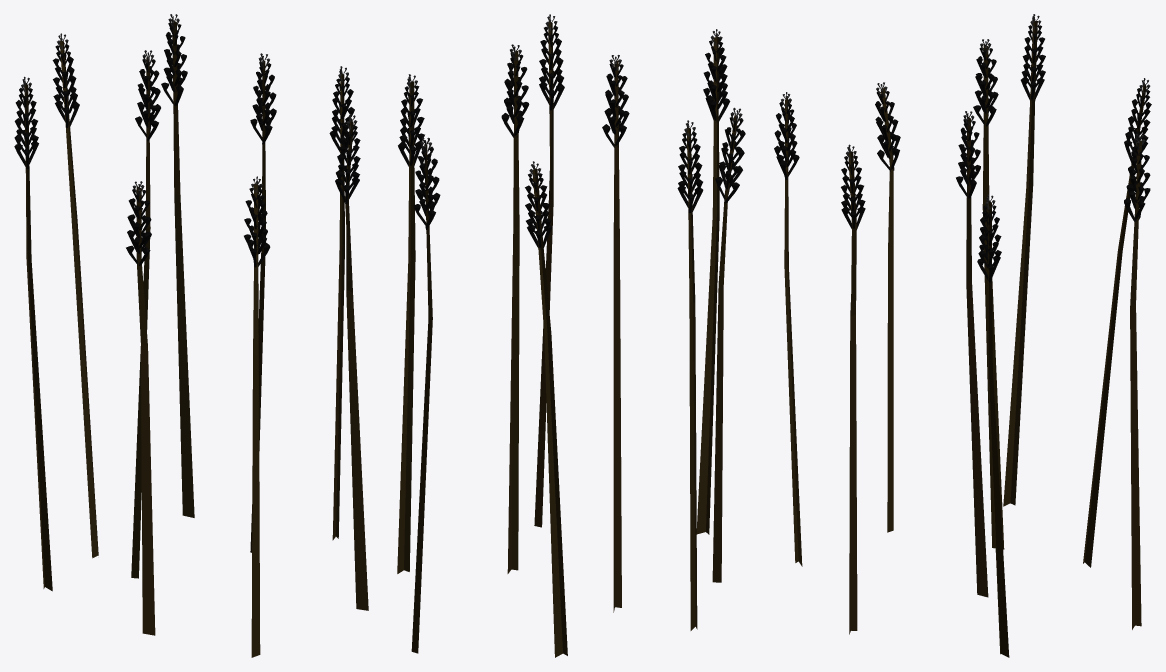
Rendered from flowers02.fbx.
The picture shows the model from 3 angles, left to right: view 1: azimuth 30°, elevation 25°; view 2: azimuth 150°, elevation 25°; view 3: azimuth 270°, elevation 25°; orthographic projection. The views are drawn at different scales.
Parts seen in each view (by area): view 1: Plane.001; view 2: Plane.001; view 3: Plane.001.
Part boxes in pixels (<box>): Plane.001: <box>14,14,368,657</box>; Plane.001: <box>397,14,745,657</box>; Plane.001: <box>774,14,1151,657</box>.
Size of the model in its own units: 0.7241 by 1.21 by 0.7767.
